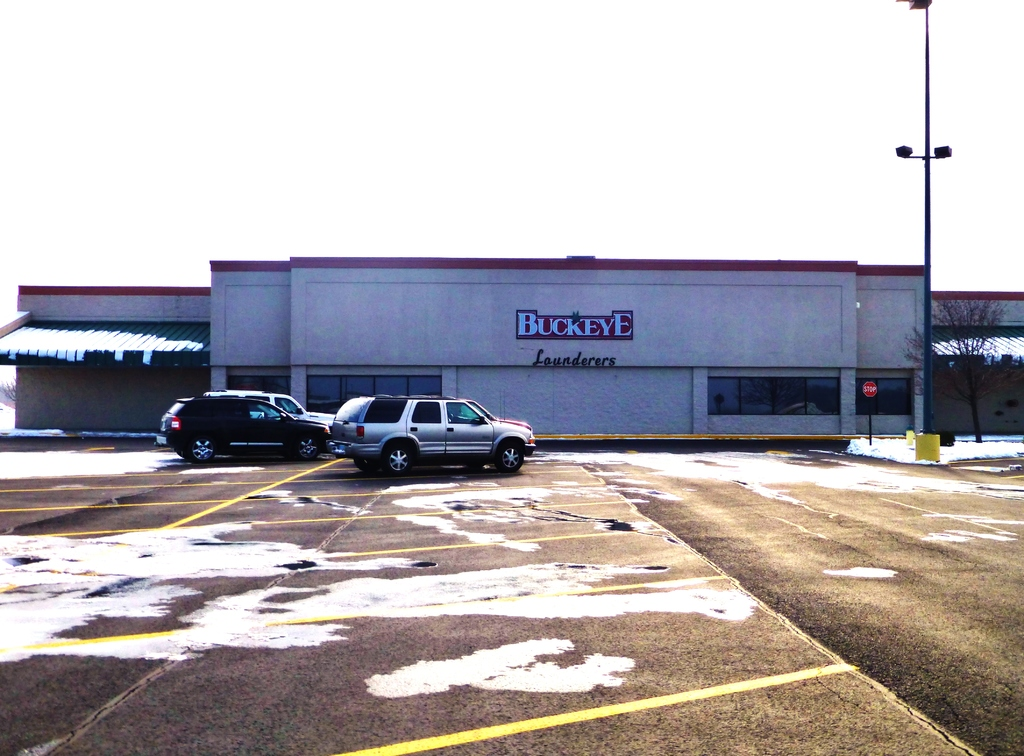cars: (330, 393, 535, 473), (160, 391, 328, 461), (445, 398, 533, 466), (201, 392, 334, 430)
